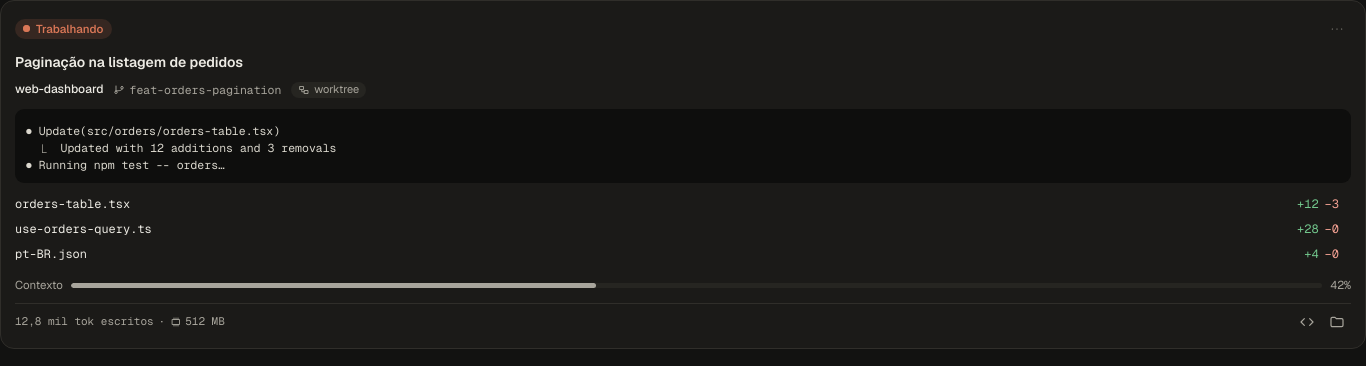
Test: session card menu › offers ending a running session
The image size is (1366, 366).
Click the button named "Mais ações" at (1337, 29), box left=1323, top=15, right=1351, bottom=43
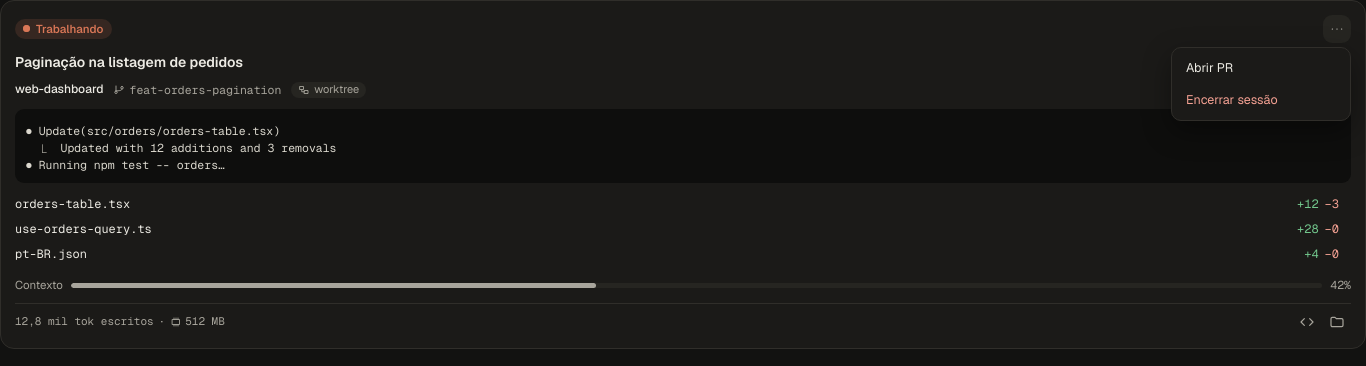
Click the menu item "Encerrar sessão" at (1261, 100), box left=1176, top=84, right=1346, bottom=116
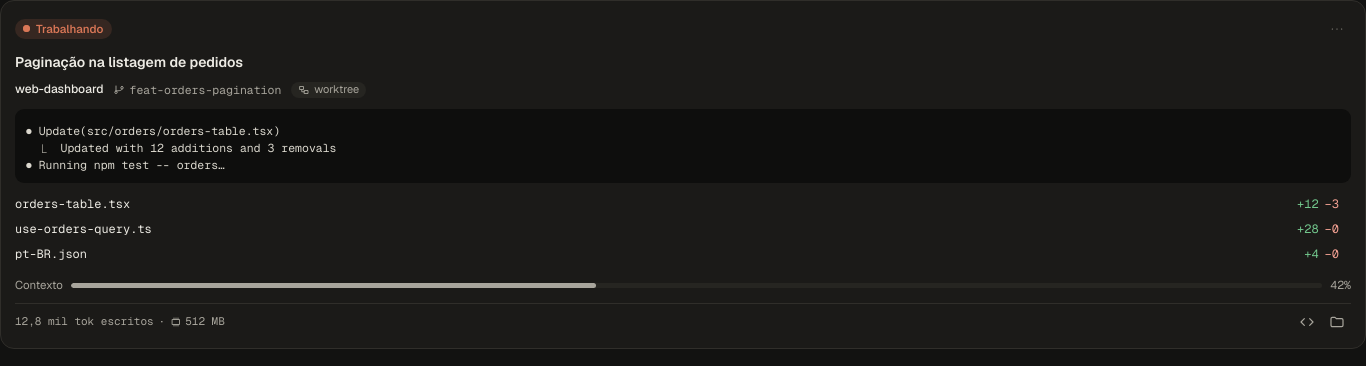
Check: the menu is gone
